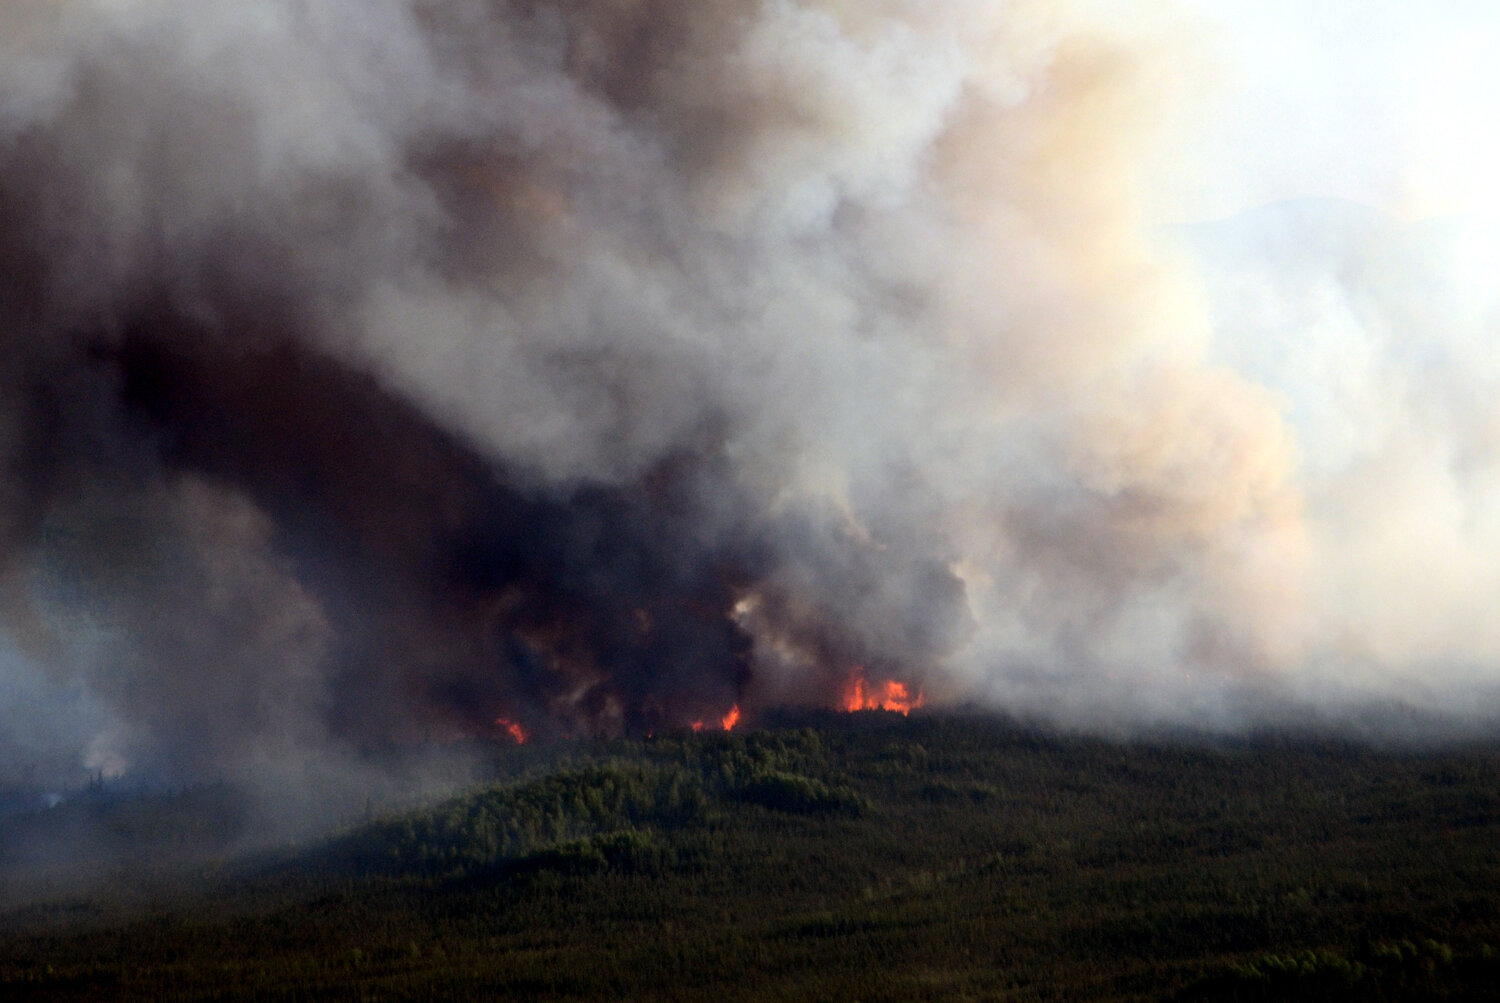fire: (838, 665, 922, 718)
smoke: (2, 1, 1494, 656)
